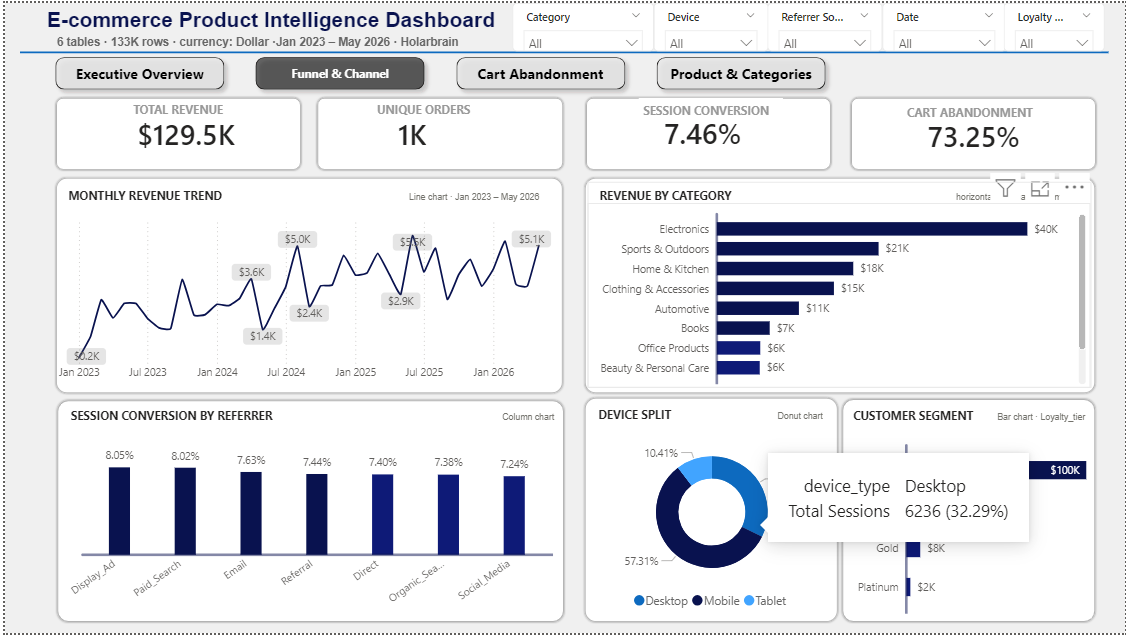

This screenshot's page, from the dashboard's own definition file:
{"tool":"powerbi","page":{"name":"Executive Overview","canvas":[1280,720],"ordinal":0},"visuals":[{"type":"shape","title":"Background","box":[0,0,1280.5,720.8],"z":0},{"type":"textbox","box":[43.3,0.9,565.1,40.1],"z":0,"group":"g7"},{"type":"shape","box":[55.7,105.1,285,87.5],"z":0,"group":"g1"},{"type":"textbox","box":[675.4,203.7,558.7,30],"z":0,"group":"g6"},{"type":"lineChart","fields":{"Category":["purchases_cleaned.order_date.Variation.Date Hierarchy.Year","purchases_cleaned.order_date.Variation.Date Hierarchy.Month"],"Y":["purchases_cleaned.Total Revenue"]},"box":[55.9,237.8,583.6,202.1],"z":0,"group":"g5"},{"type":"clusteredColumnChart","fields":{"Category":["sessions_cleaned.referrer_source"],"Y":["sessions_cleaned.Session Conversion Rate"]},"box":[62.7,492.5,568.7,206],"z":0,"group":"g4"},{"type":"donutChart","fields":{"Category":["sessions_cleaned.device_type"],"Y":["sessions_cleaned.Total Sessions"]},"box":[670.1,492.5,276.1,210.4],"z":0,"group":"g3"},{"type":"barChart","fields":{"Category":["users_cleaned.loyalty_tier"],"Y":["purchases_cleaned.Total Revenue"]},"box":[963.6,492.8,277.6,210.3],"z":0,"group":"g2"},{"type":"textbox","box":[55,30,511.2,31.2],"z":1000,"group":"g7"},{"type":"bookmarkNavigator","box":[48.6,52.9,900,55.7],"z":1000},{"type":"shape","box":[354.4,105.1,286.2,87.5],"z":1000,"group":"g1"},{"type":"textbox","box":[67,204.1,573.5,36.7],"z":1000,"group":"g5"},{"type":"barChart","fields":{"Category":["products_cleaned.category"],"Y":["purchases_cleaned.Total Revenue"]},"box":[666.2,227.6,574.7,212.3],"z":1000,"group":"g6"},{"type":"textbox","box":[70.4,456,577.2,41.6],"z":1000,"group":"g4"},{"type":"textbox","box":[672.5,456.1,276.4,40.4],"z":1000,"group":"g3"},{"type":"textbox","box":[963.6,456.1,286.1,40.4],"z":1000,"group":"g2"},{"type":"group","id":"g1","title":"Page Layout","box":[17.1,50,1244.3,660],"z":2000},{"type":"shape","box":[660.7,105.1,285,87.5],"z":2000,"group":"g1"},{"type":"shape","box":[964.4,105.1,285,87.5],"z":3000,"group":"g1"},{"type":"cardVisual","fields":{"Data":["purchases_cleaned.Total Revenue"]},"box":[124.7,111.7,215.6,74],"z":3000},{"type":"textbox","box":[141.6,107.8,142.9,40.3],"z":4000},{"type":"shape","box":[55.7,197.1,584.3,251.4],"z":4000,"group":"g1"},{"type":"cardVisual","fields":{"Data":["purchases_cleaned.Total Orders"]},"box":[419.5,111.7,190.9,74],"z":5000},{"type":"shape","box":[660,197.1,588.6,251.4],"z":5000,"group":"g1"},{"type":"textbox","box":[419.5,107.8,144.2,39],"z":6000},{"type":"shape","box":[57.1,451.4,584.3,258.6],"z":6000,"group":"g1"},{"type":"textbox","box":[723.9,108.8,165.1,29.3],"z":7000},{"type":"shape","box":[954.2,450,294.3,260],"z":7000,"group":"g1"},{"type":"cardVisual","fields":{"Data":["sessions_cleaned.Session Convertion Rate %"]},"box":[723.9,114.9,174.9,66],"z":8000},{"type":"shape","box":[660,448.6,294.3,261.4],"z":8000,"group":"g1"},{"type":"shape","box":[17.1,50,1244.3,12.9],"z":9000,"group":"g1"},{"type":"textbox","box":[1026,111.9,184.3,29.2],"z":9000},{"type":"cardVisual","fields":{"Data":["users_cleaned.Cart Abandonment Rate"]},"box":[1026,114.4,193.2,73.7],"z":10000},{"type":"group","id":"g2","title":"Customer Seg.","box":[963.6,456.1,286.1,247],"z":11000},{"type":"group","id":"g3","title":"Device split","box":[670.1,456.1,278.8,246.9],"z":12000},{"type":"group","id":"g4","title":"Session Con.","box":[62.7,456,584.9,242.5],"z":13000},{"type":"group","id":"g5","title":"Monthly Revenue Trend","box":[55.9,204.1,584.6,235.8],"z":14000},{"type":"group","id":"g6","title":"Revenue By Category","box":[666.2,203.7,574.7,236.2],"z":15000},{"type":"group","id":"g7","title":"Dashboard Tittle","box":[43.3,0.9,565.1,60.3],"z":16000},{"type":"slicer","fields":{"Values":["products_cleaned.category","products_cleaned.subcategory"]},"box":[579.6,0,161.4,55],"z":17000},{"type":"slicer","fields":{"Values":["sessions_cleaned.device_type"]},"box":[741,0,130.8,55],"z":18000},{"type":"slicer","fields":{"Values":["sessions_cleaned.referrer_source"]},"box":[871.9,0,130.8,55],"z":19000},{"type":"slicer","fields":{"Values":["purchases_cleaned.order_date.Variation.Date Hierarchy.Year","purchases_cleaned.order_date.Variation.Date Hierarchy.Month"]},"box":[1002.7,0,141.8,55],"z":20000},{"type":"slicer","fields":{"Values":["users_cleaned.loyalty_tier"]},"box":[1142.1,0,114.9,55],"z":21000}]}

Visuals, with their boxes on the page's 1280x720 design canvas (x1, y1, x2, y2). These are canvas units, not pixel positions in the 1126x635 screenshot, which may show the page scaled, cropped or inside an application window:
"Background" shape: 0,0,1280,721
textbox: 43,1,608,41
shape: 56,105,341,193
textbox: 675,204,1234,234
lineChart - purchases_cleaned.order_date.Variation.Date Hierarchy.Year x purchases_cleaned.order_date.Variation.Date Hierarchy.Month: 56,238,640,440
clusteredColumnChart - sessions_cleaned.referrer_source x sessions_cleaned.Session Conversion Rate: 63,492,631,698
donutChart - sessions_cleaned.device_type x sessions_cleaned.Total Sessions: 670,492,946,703
barChart - users_cleaned.loyalty_tier x purchases_cleaned.Total Revenue: 964,493,1241,703
textbox: 55,30,566,61
bookmarkNavigator: 49,53,949,109
shape: 354,105,641,193
textbox: 67,204,640,241
barChart - products_cleaned.category x purchases_cleaned.Total Revenue: 666,228,1241,440
textbox: 70,456,648,498
textbox: 672,456,949,496
textbox: 964,456,1250,496
"Page Layout" group: 17,50,1261,710
shape: 661,105,946,193
shape: 964,105,1249,193
cardVisual - purchases_cleaned.Total Revenue: 125,112,340,186
textbox: 142,108,284,148
shape: 56,197,640,448
cardVisual - purchases_cleaned.Total Orders: 420,112,610,186
shape: 660,197,1249,448
textbox: 420,108,564,147
shape: 57,451,641,710
textbox: 724,109,889,138
shape: 954,450,1248,710
cardVisual - sessions_cleaned.Session Convertion Rate %: 724,115,899,181
shape: 660,449,954,710
shape: 17,50,1261,63
textbox: 1026,112,1210,141
cardVisual - users_cleaned.Cart Abandonment Rate: 1026,114,1219,188
"Customer Seg." group: 964,456,1250,703
"Device split" group: 670,456,949,703
"Session Con." group: 63,456,648,698
"Monthly Revenue Trend" group: 56,204,640,440
"Revenue By Category" group: 666,204,1241,440
"Dashboard Tittle" group: 43,1,608,61
slicer - products_cleaned.category x products_cleaned.subcategory: 580,0,741,55
slicer - sessions_cleaned.device_type: 741,0,872,55
slicer - sessions_cleaned.referrer_source: 872,0,1003,55
slicer - purchases_cleaned.order_date.Variation.Date Hierarchy.Year x purchases_cleaned.order_date.Variation.Date Hierarchy.Month: 1003,0,1144,55
slicer - users_cleaned.loyalty_tier: 1142,0,1257,55
